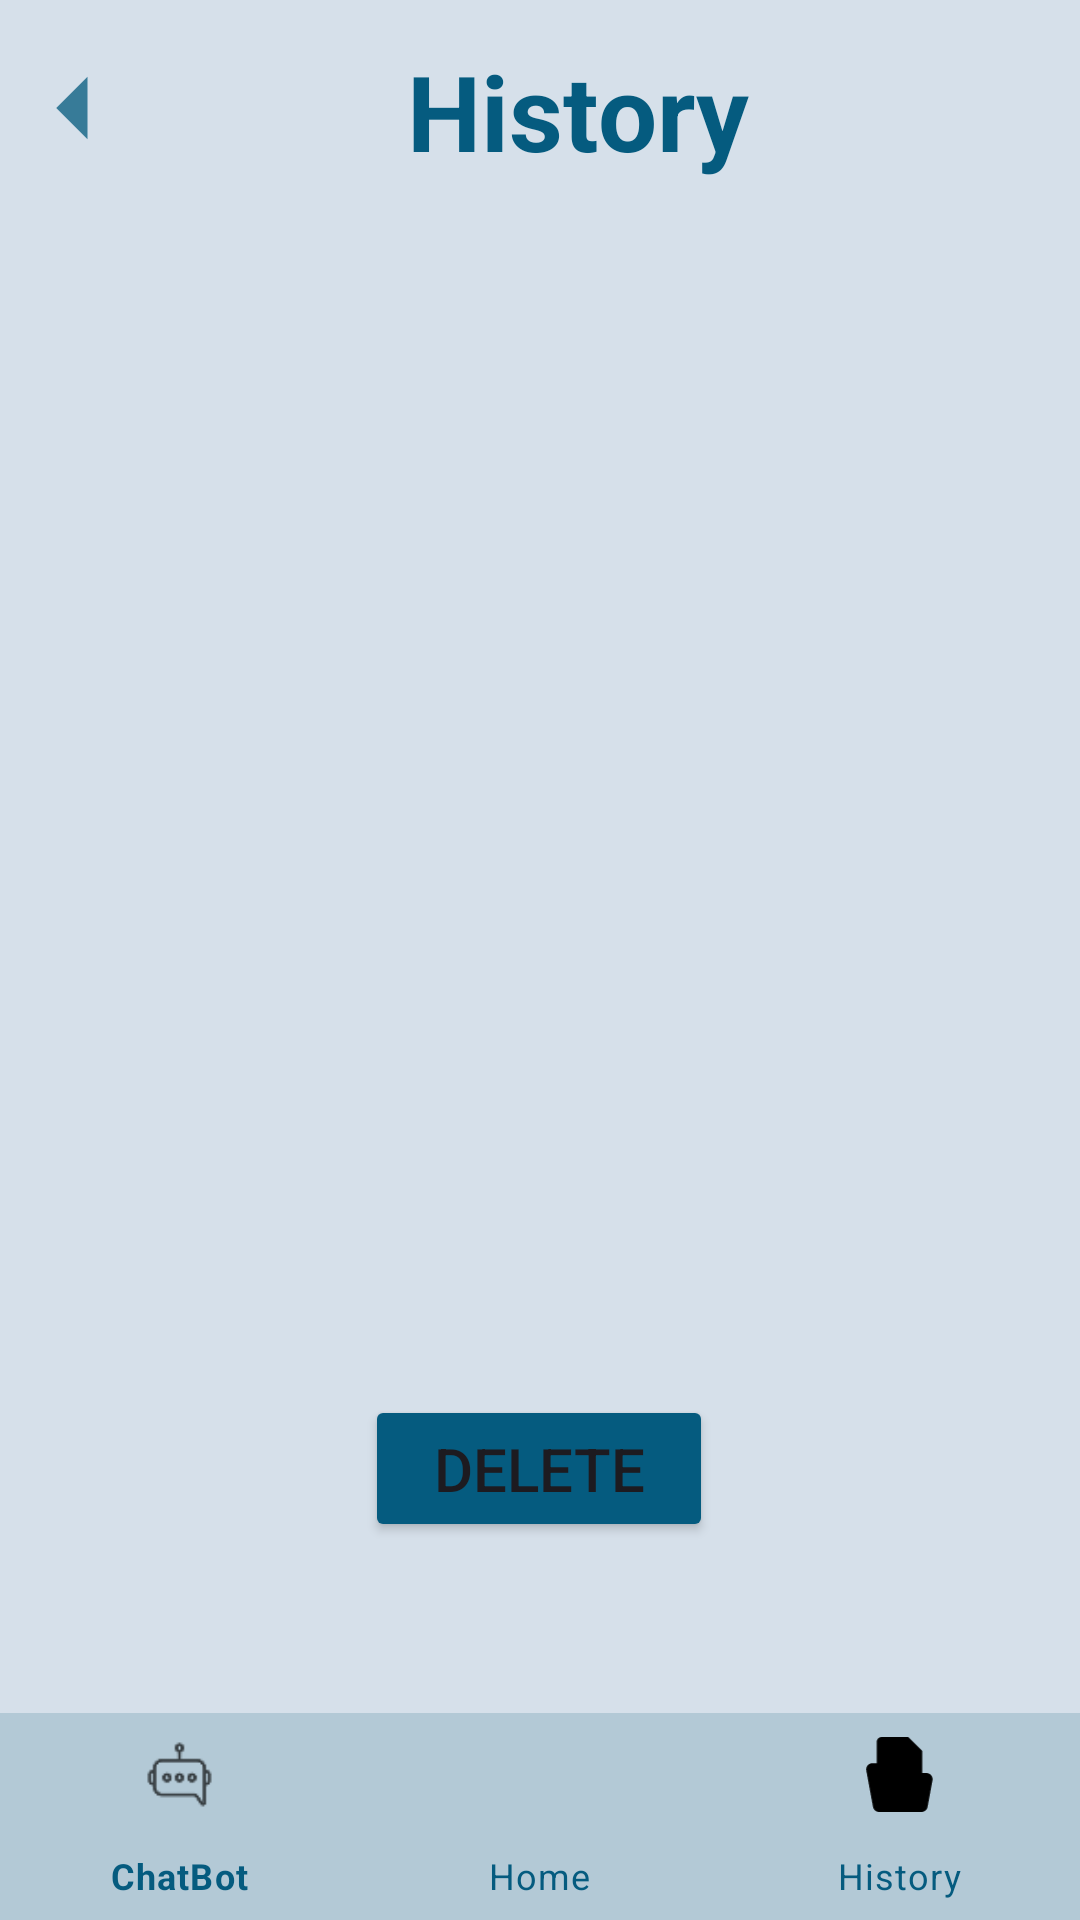

Screen size 1080×1920. Icon name, then its box in pixels as detection(x1, y1, x2, y2):
Back: detection(56, 77, 88, 139)
